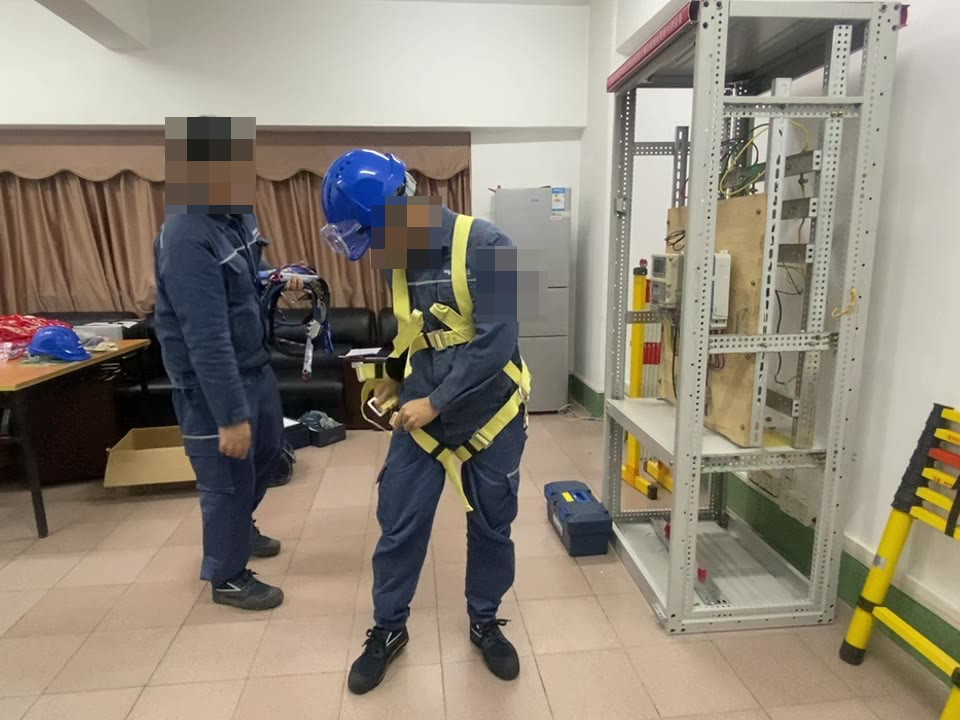downsuit: (368, 390, 531, 627), (174, 378, 281, 581)
halt: (322, 149, 415, 255)
hand: (393, 396, 439, 432), (215, 422, 256, 461)
inear: (381, 195, 428, 246)
noear: (177, 147, 210, 193)
person: (321, 148, 536, 694), (148, 113, 289, 605)
safebelt: (350, 206, 535, 519)
sleeve: (496, 257, 522, 292)
unhalt: (174, 117, 255, 201)
upsuit: (379, 201, 528, 386), (154, 197, 269, 370)
